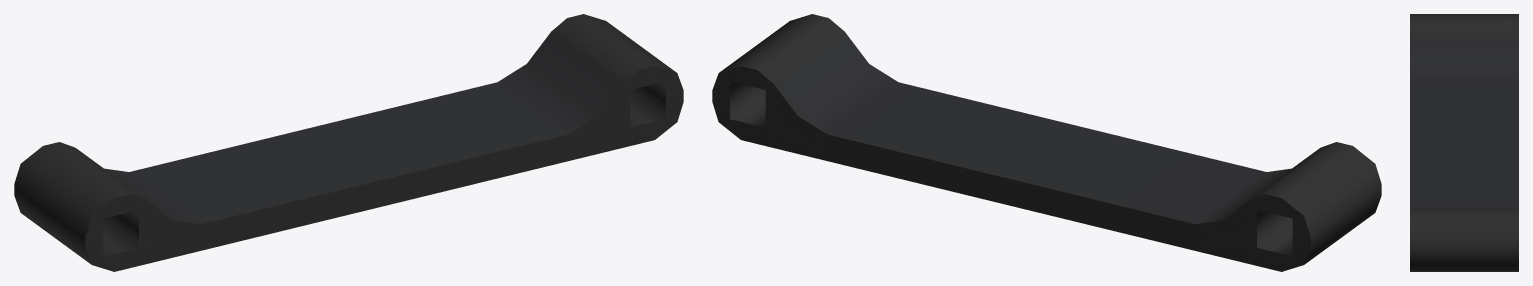
The model's file is Trigger_Guard.dae.
3 views of the same model, side by side, from view 1: azimuth 30°, elevation 25°; view 2: azimuth 150°, elevation 25°; view 3: azimuth 270°, elevation 25° (orthographic). The views are drawn at different scales.
Visible parts, largest first — view 1: Trigger_Guard; view 2: Trigger_Guard; view 3: Trigger_Guard.
Part boxes in pixels (bbox=[...]): Trigger_Guard: bbox=[14, 14, 683, 271]; Trigger_Guard: bbox=[712, 14, 1381, 271]; Trigger_Guard: bbox=[1410, 14, 1518, 271].
Bounding box in the file's own units: 0.0521 × 0.0107 × 0.00615.
Materials: 1 (1 with a texture image).
